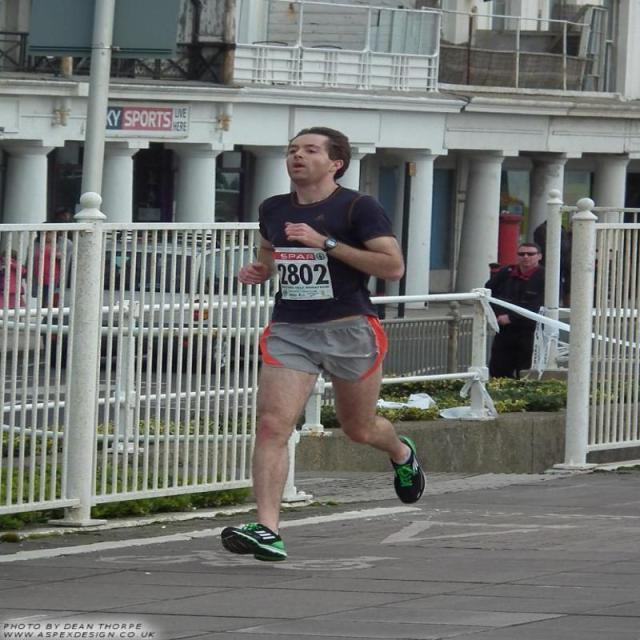dorsal: (264, 239, 343, 306)
